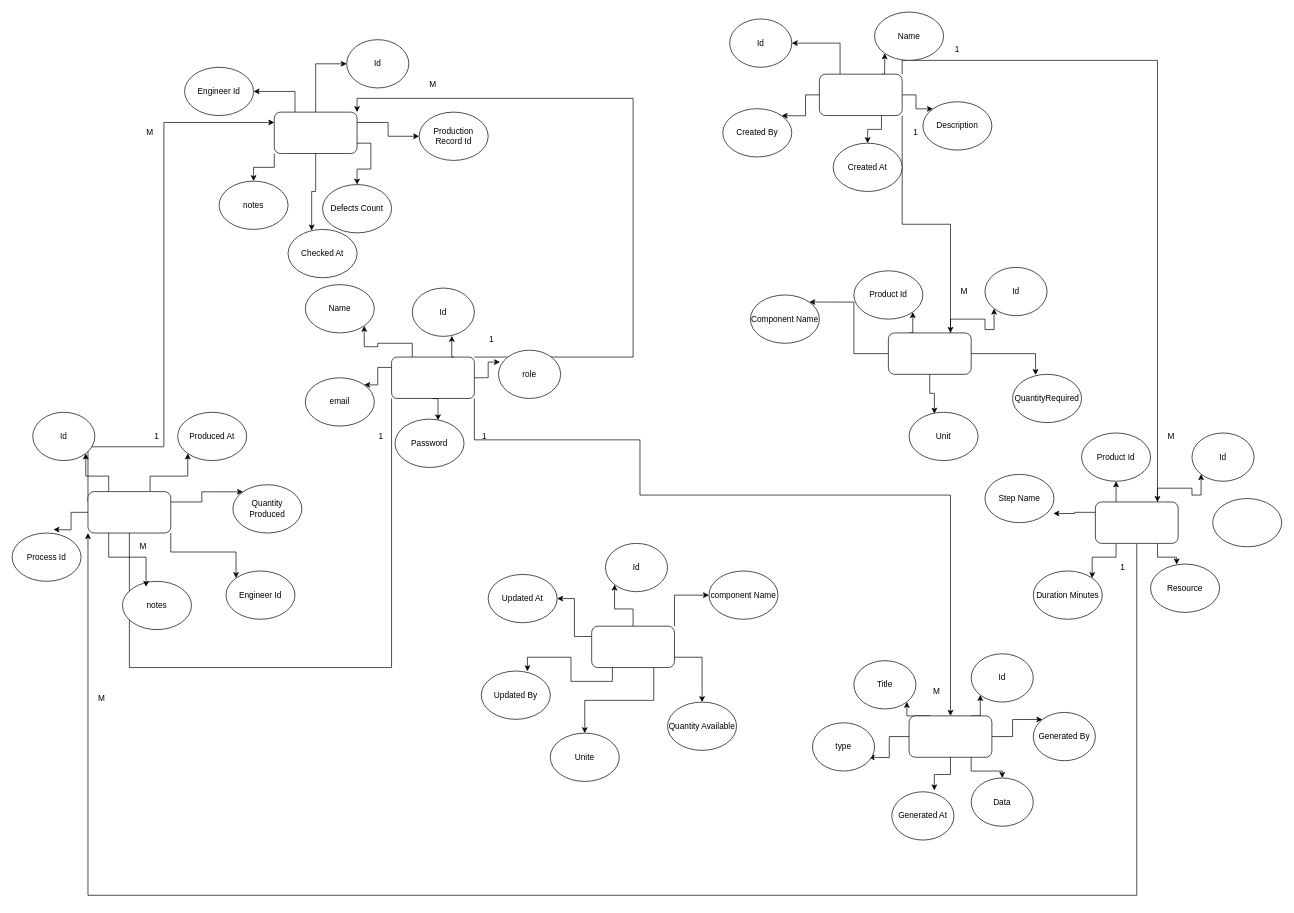
This 1294x913 diagram has some shape labels left out. The centre of each missing label's shape, as x and y in pixels:
"Bill Of Materials (BOM)" goes at [929,353].
"Inventory" goes at [632,646].
"Processes" goes at [1136,522].
"Production Records" goes at [129,512].
"Products" goes at [860,94].
"Quality Checks" goes at [315,132].
"Reports" goes at [950,736].
"Sequence" goes at [1247,522].
"Users" goes at [432,377].
